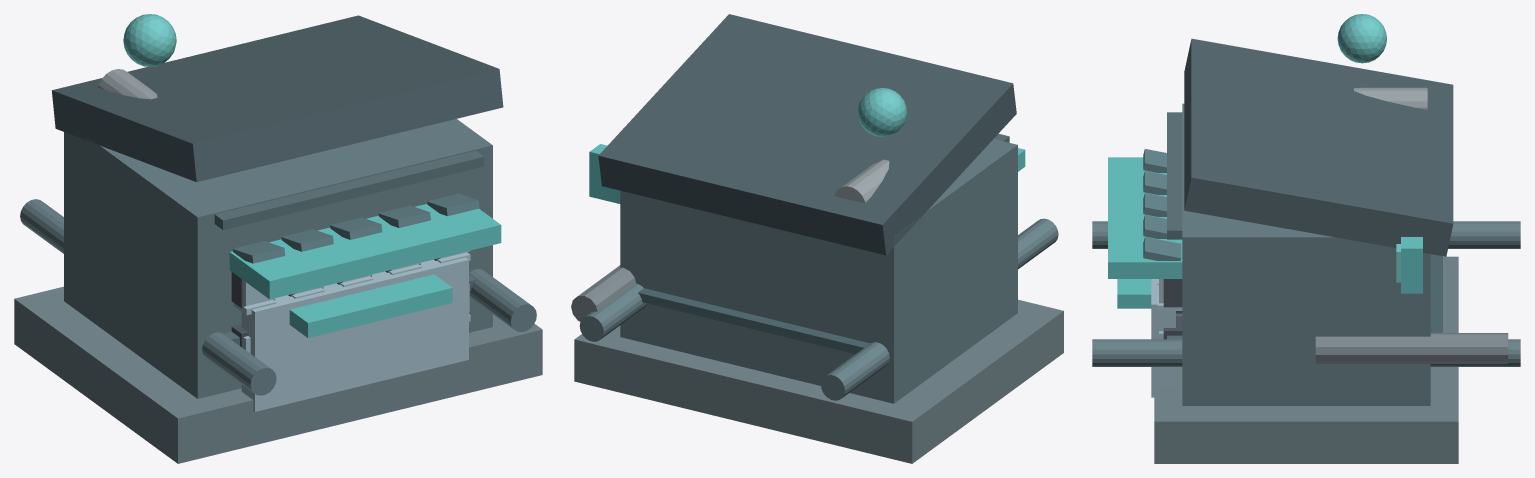
Rendered from internet_cafe.glb.
3 views of the same model, side by side, from view 1: azimuth 30°, elevation 25°; view 2: azimuth 150°, elevation 25°; view 3: azimuth 270°, elevation 25° (orthographic). The views are drawn at different scales.
Visible parts, largest first — view 1: world; view 2: world; view 3: world.
Part boxes in pixels (left/top/right/bottom): world: left=14, top=14, right=542, bottom=463; world: left=571, top=14, right=1063, bottom=463; world: left=1092, top=14, right=1520, bottom=463.
Bounding box in the file's own units: 1.27 × 1.19 × 1.38.
